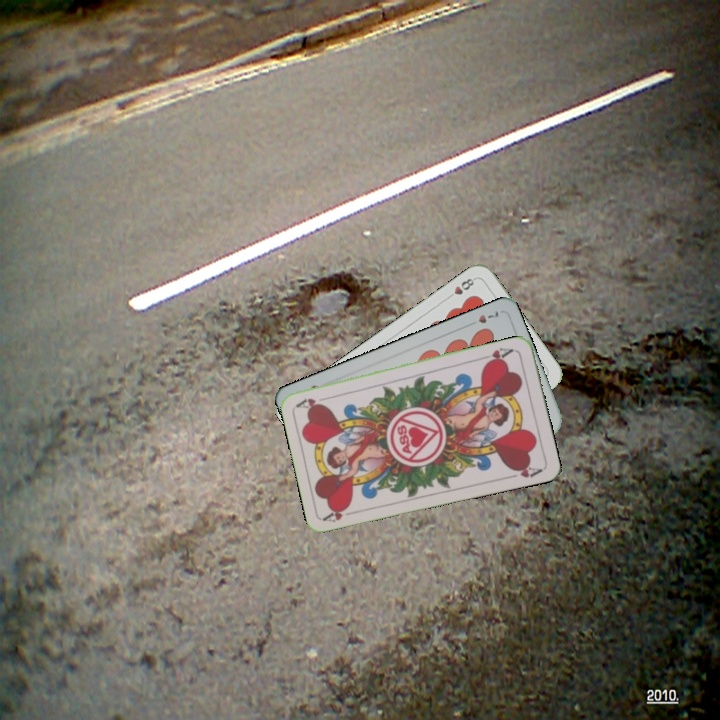H7: (464, 307, 501, 329)
H8: (443, 274, 478, 302)
HA: (477, 344, 516, 367), (320, 502, 353, 525)
